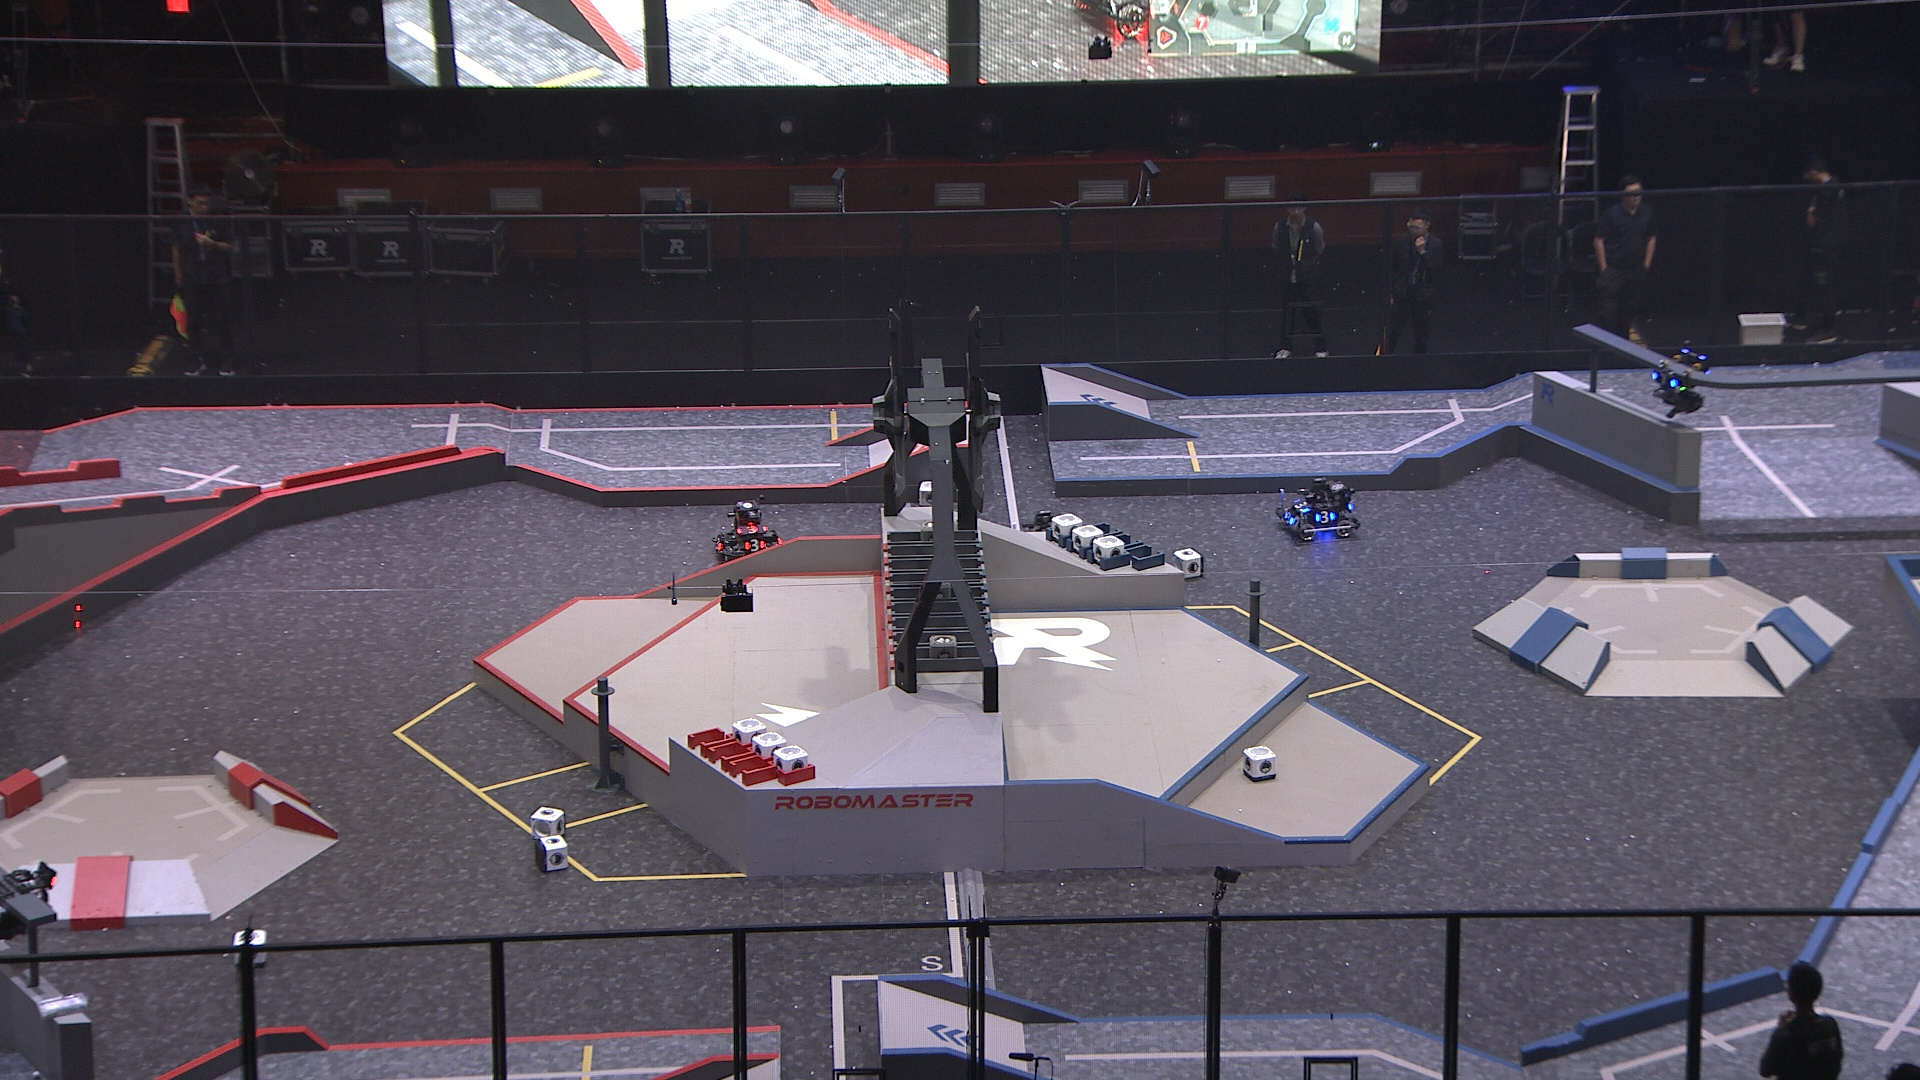armor: (1651, 367, 1677, 392), (732, 520, 767, 538), (742, 535, 767, 556), (1313, 508, 1338, 526), (711, 533, 727, 553), (1290, 498, 1309, 514), (1280, 504, 1296, 524)
car: (707, 491, 785, 575), (1273, 475, 1358, 543)
watcher: (1646, 339, 1714, 422)
